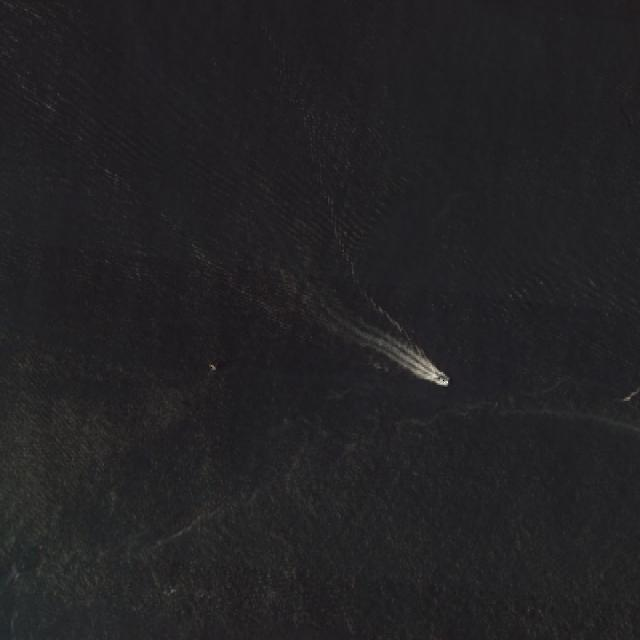boat: (436, 374, 450, 385), (210, 362, 218, 370)
